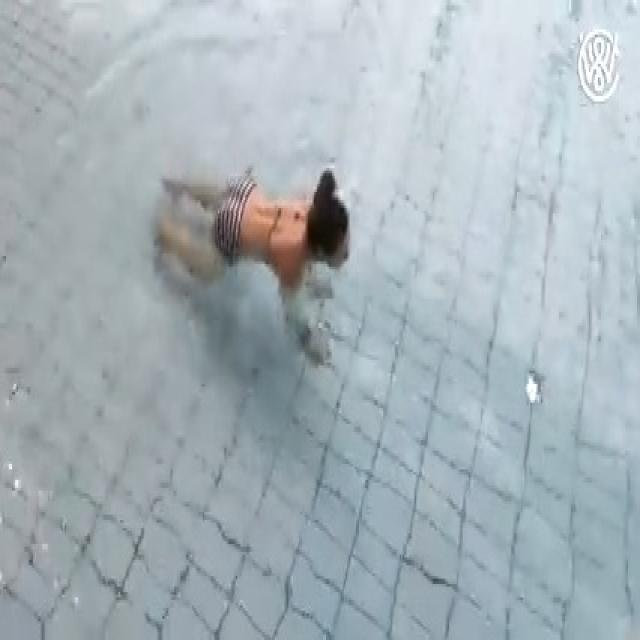Swimming: (147, 158, 356, 371)
